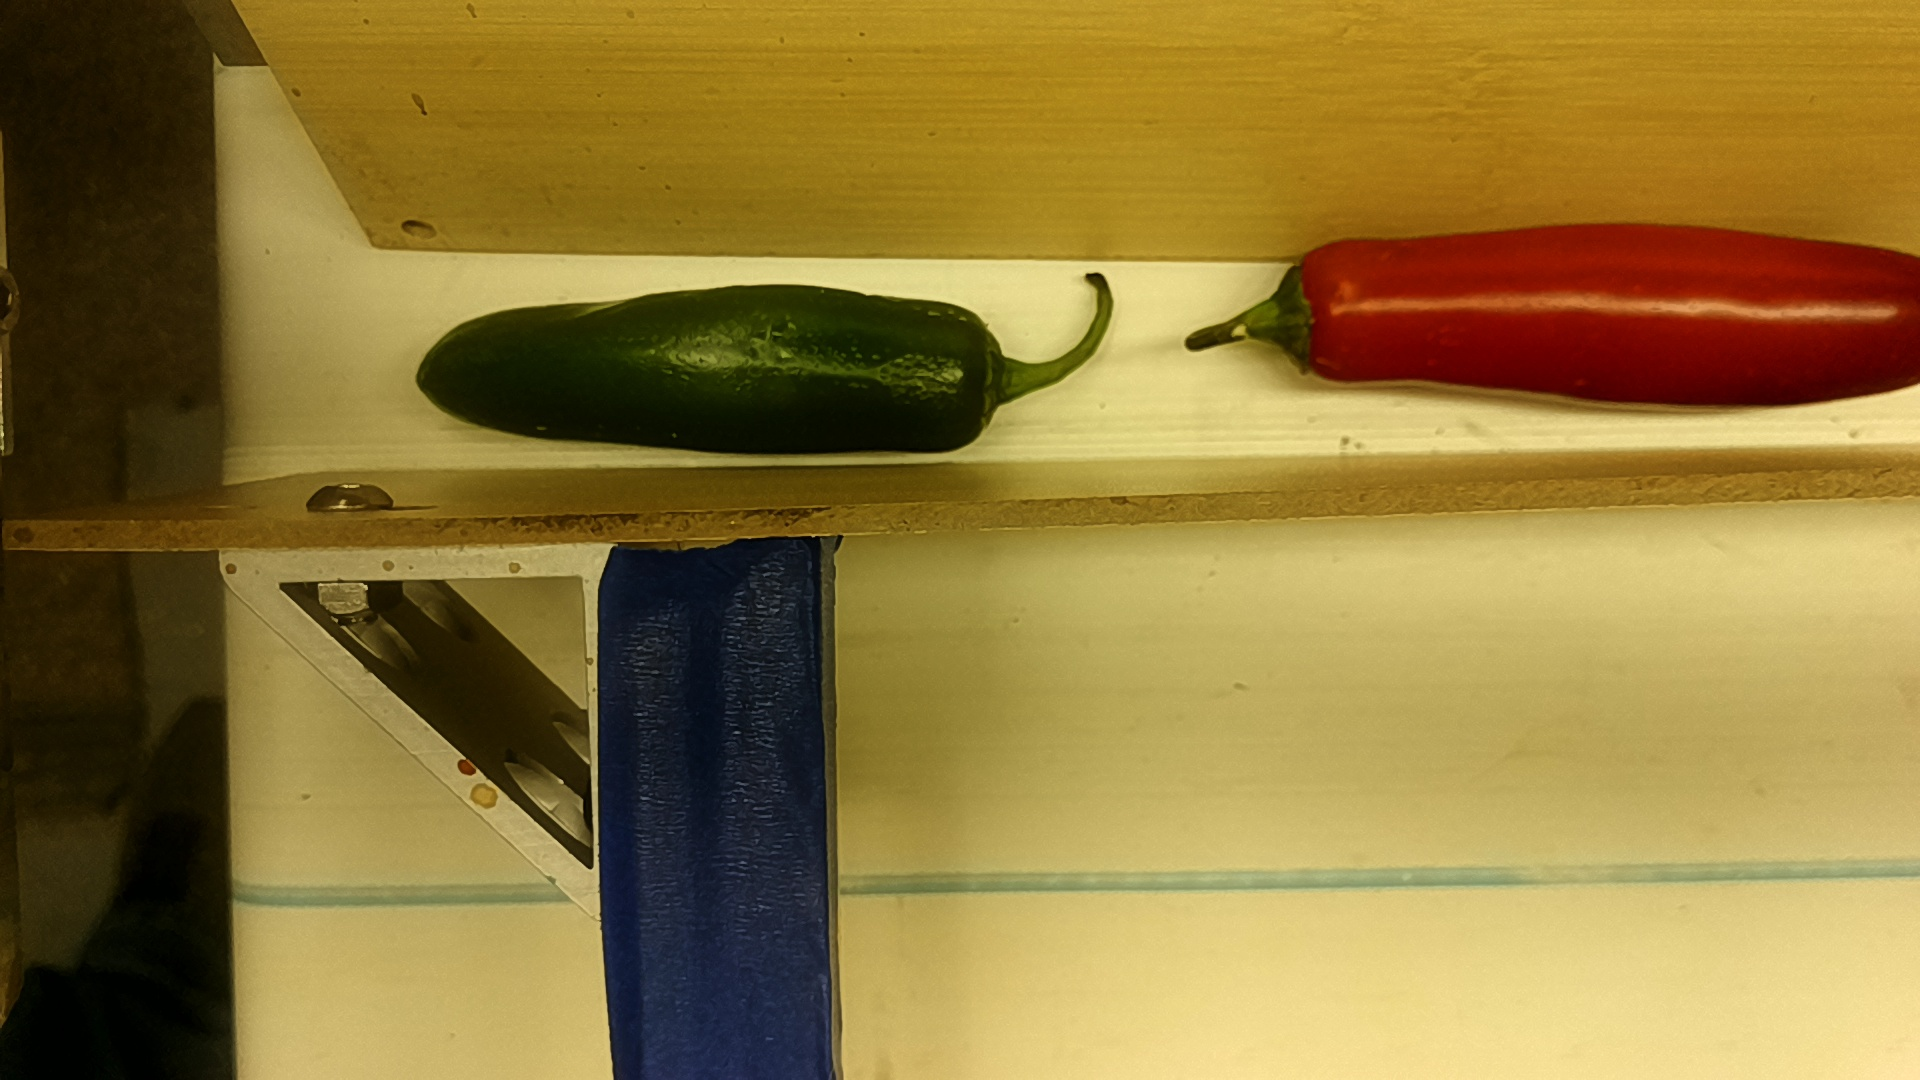Cut Point: (938, 295, 1029, 454), (1273, 233, 1352, 390)
